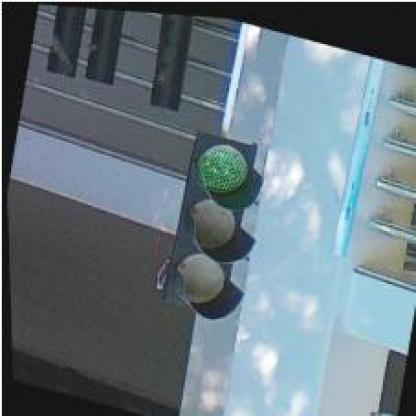green: (158, 124, 268, 320)
